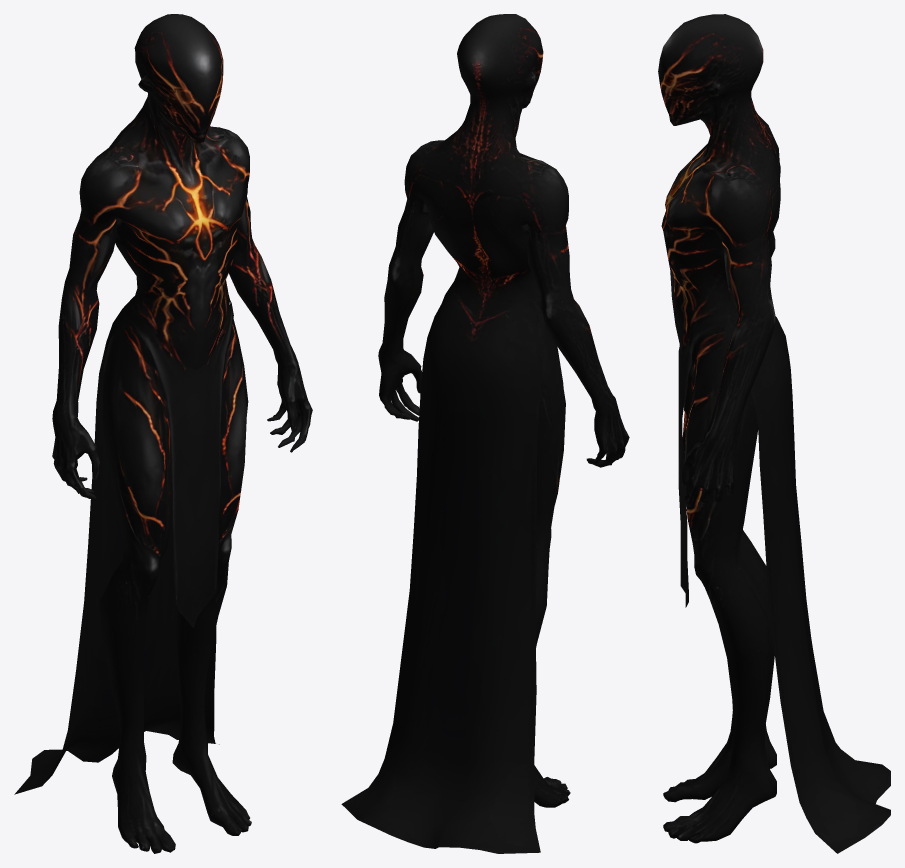
File: 019efae8-293d-7e0c-9a4a-55976f00f91d.glb
The picture shows the model from 3 angles, left to right: view 1: azimuth 30°, elevation 25°; view 2: azimuth 150°, elevation 25°; view 3: azimuth 270°, elevation 25°; orthographic projection. The views are drawn at different scales.
Parts seen in each view (by area): view 1: tripo_node_647e4938-723e-4824-aa1e-192abdda2c54; view 2: tripo_node_647e4938-723e-4824-aa1e-192abdda2c54; view 3: tripo_node_647e4938-723e-4824-aa1e-192abdda2c54.
Part boxes in pixels (x1,y1,x2,y2): tripo_node_647e4938-723e-4824-aa1e-192abdda2c54: (14, 14, 312, 853); tripo_node_647e4938-723e-4824-aa1e-192abdda2c54: (341, 14, 629, 853); tripo_node_647e4938-723e-4824-aa1e-192abdda2c54: (658, 14, 890, 853).
Bounding box in the file's own units: 0.3223 × 0.998 × 0.2637.
Materials: 1 (1 with a texture image).
